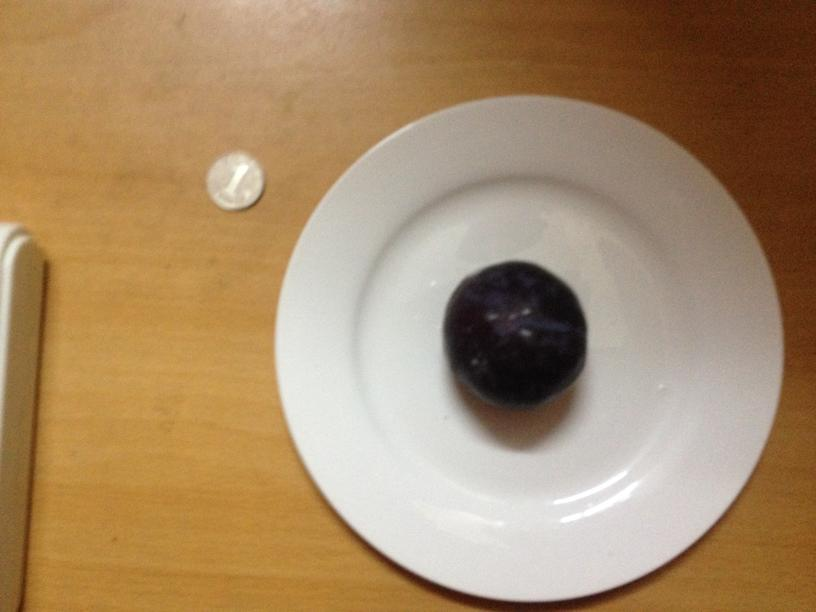coin: (204, 152, 266, 209)
plum: (438, 262, 586, 406)
